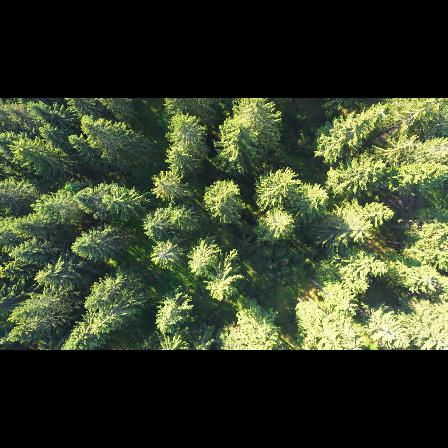Sick: (150, 244, 173, 268)
